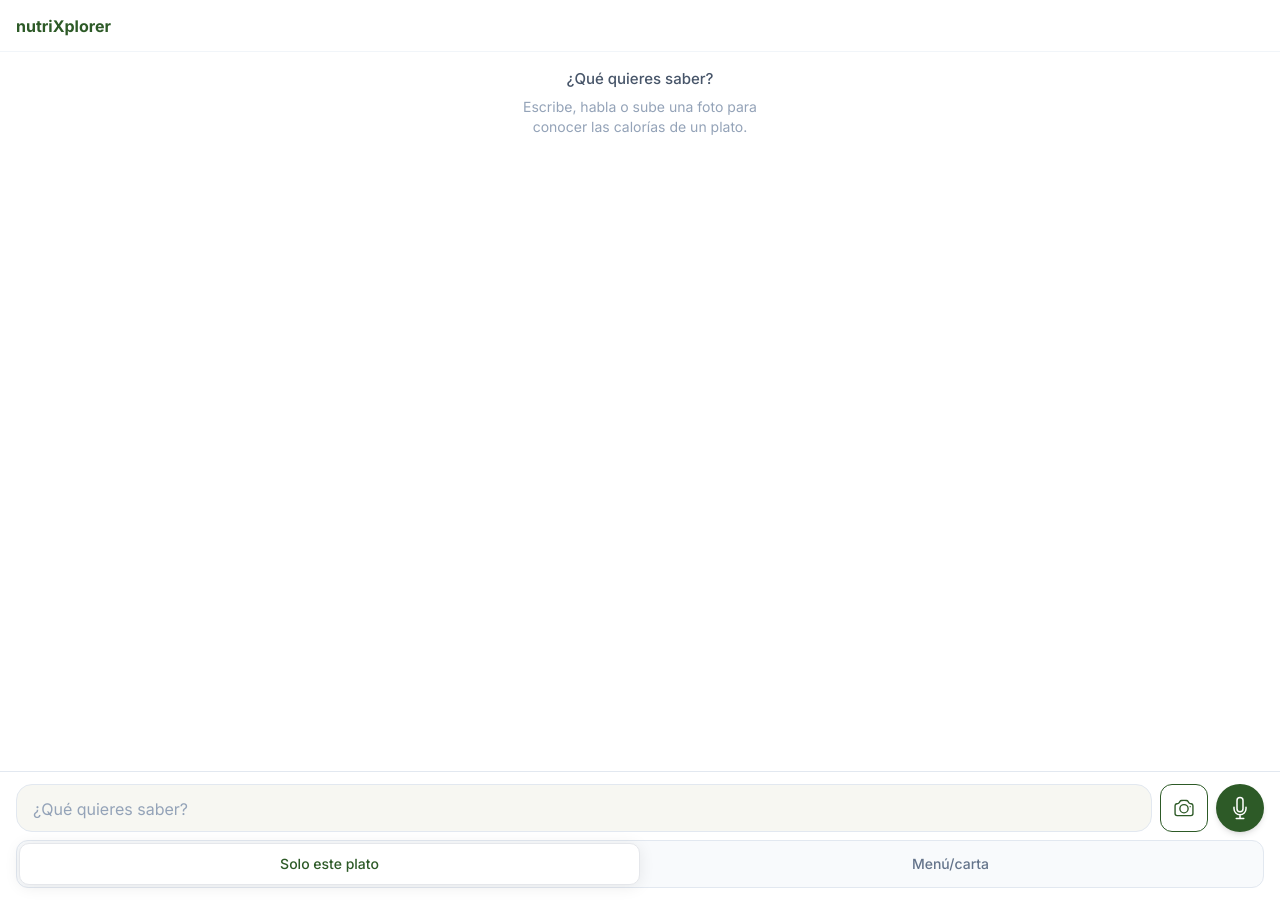
Test case: QA-WEB-001 a11y — G6: All inputs disabled during loading › textarea is disabled while text request is pending
Type "big mac" into the text box. click: [584, 808]
box: [16,784,1152,832]
Then press Enter
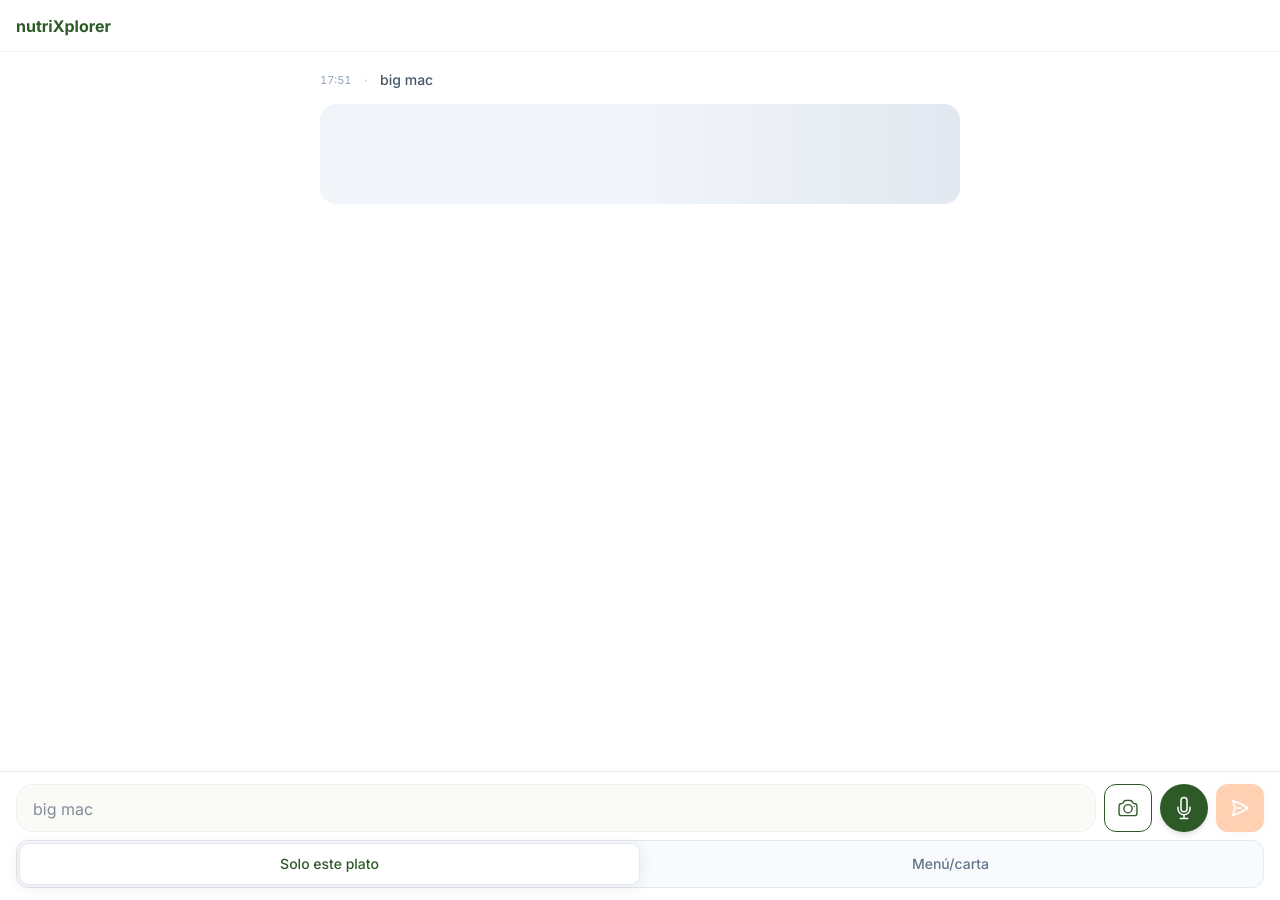
Expected: the text box is disabled, [16,784,1096,832]
